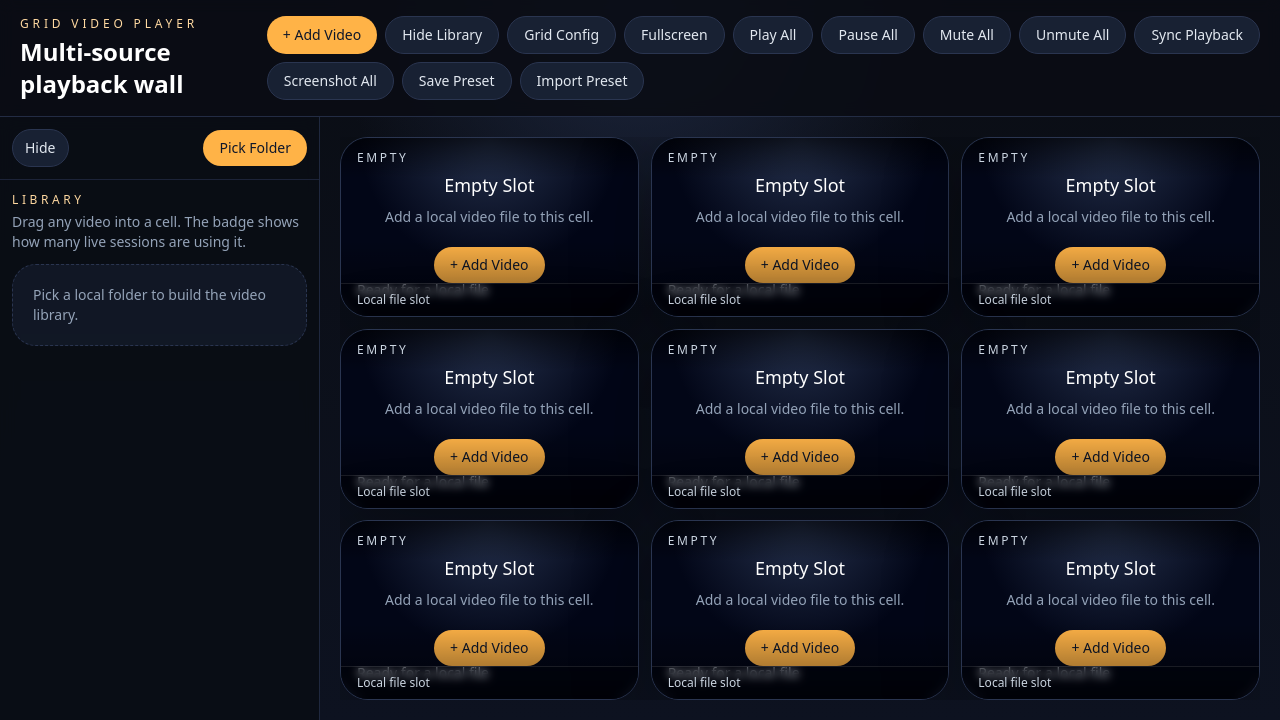
it: App UI behavior › adds a cell through the source picker and keeps the add tile available
The width and height of the screenshot is (1280, 720).
Click the button with test id "toolbar-add-video" at (322, 35), box [267,16,377,54]
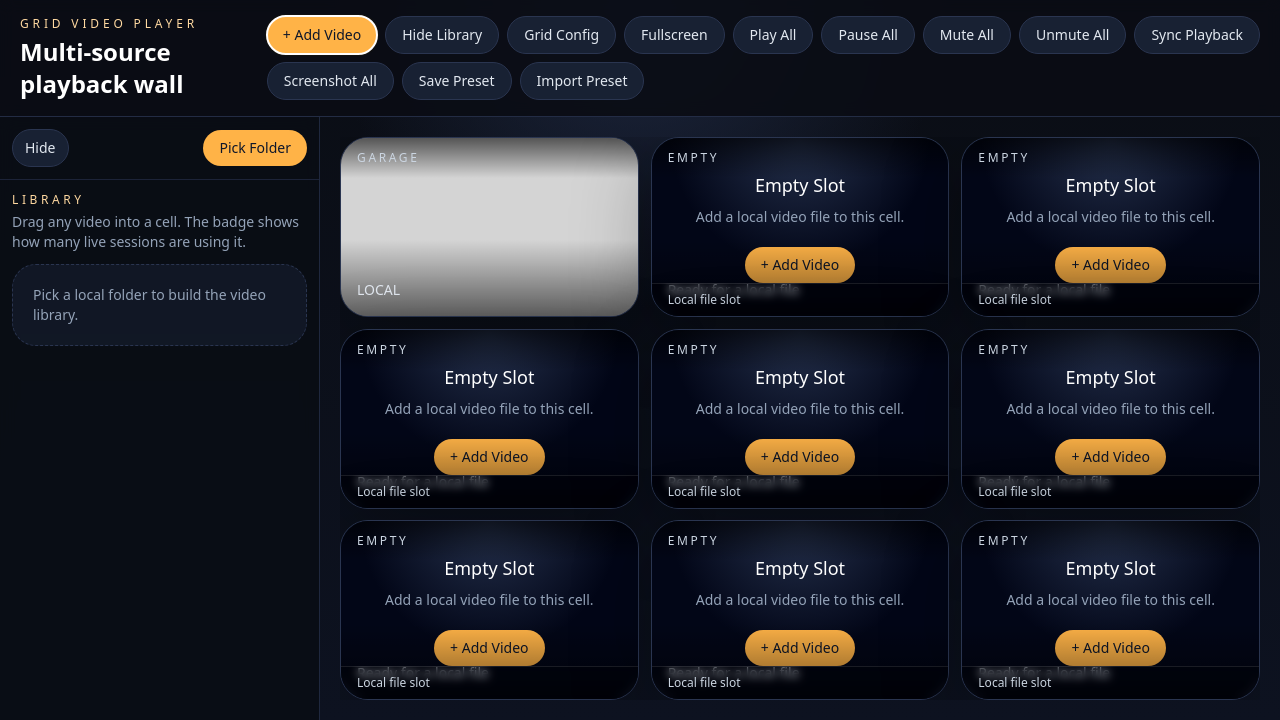
Now the text "Garage" is shown, box [357,150,420,166]
